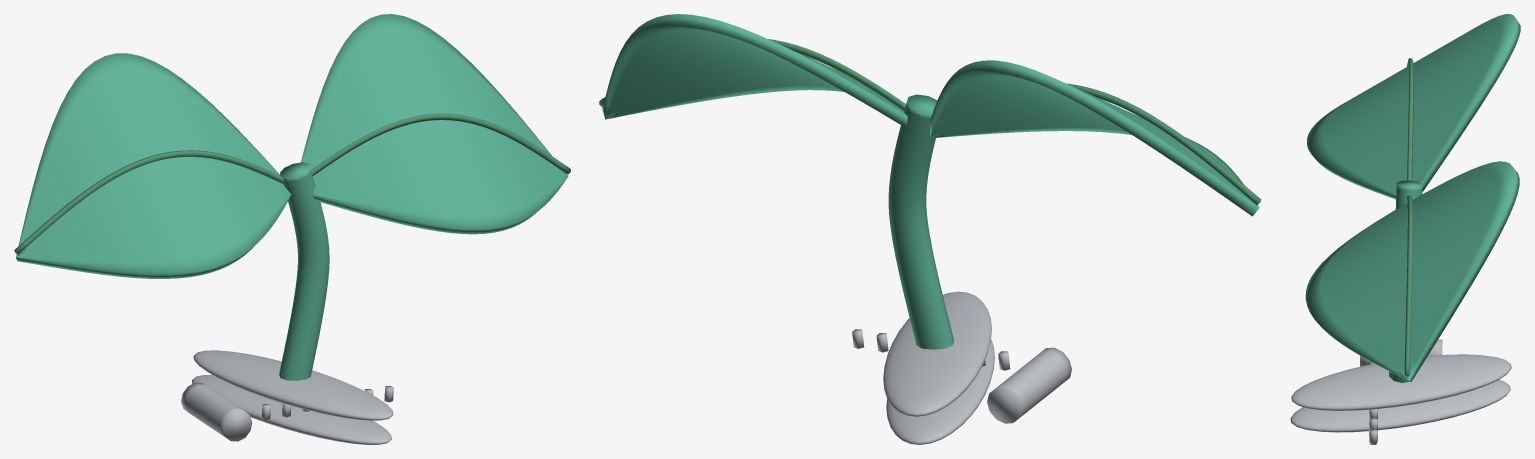
The model's file is Masculine-locs-pashmina249-sprout.glb.
The picture shows the model from 3 angles, left to right: view 1: azimuth 30°, elevation 25°; view 2: azimuth 150°, elevation 25°; view 3: azimuth 270°, elevation 25°; orthographic projection. The views are drawn at different scales.
Parts seen in each view (by area): view 1: 226 extra / Accessory / mint226, 226 extra / Sprout / clip silver235, 226 extra / Sprout / leaf vein235; view 2: 226 extra / Accessory / mint226, 226 extra / Sprout / clip silver235, 226 extra / Sprout / leaf vein235; view 3: 226 extra / Accessory / mint226, 226 extra / Sprout / clip silver235, 226 extra / Sprout / leaf vein235.
Part boxes in pixels (bbox=[...]): 226 extra / Accessory / mint226: bbox=[16, 14, 568, 380]; 226 extra / Sprout / clip silver235: bbox=[181, 350, 393, 444]; 226 extra / Sprout / leaf vein235: bbox=[14, 113, 570, 254]; 226 extra / Accessory / mint226: bbox=[602, 14, 1259, 349]; 226 extra / Sprout / clip silver235: bbox=[852, 291, 1071, 444]; 226 extra / Sprout / leaf vein235: bbox=[599, 39, 1261, 205]; 226 extra / Accessory / mint226: bbox=[1305, 14, 1520, 382]; 226 extra / Sprout / clip silver235: bbox=[1290, 339, 1511, 444]; 226 extra / Sprout / leaf vein235: bbox=[1404, 58, 1413, 376].
Size of the model in its own units: 0.2705 by 0.1635 by 0.1016.
